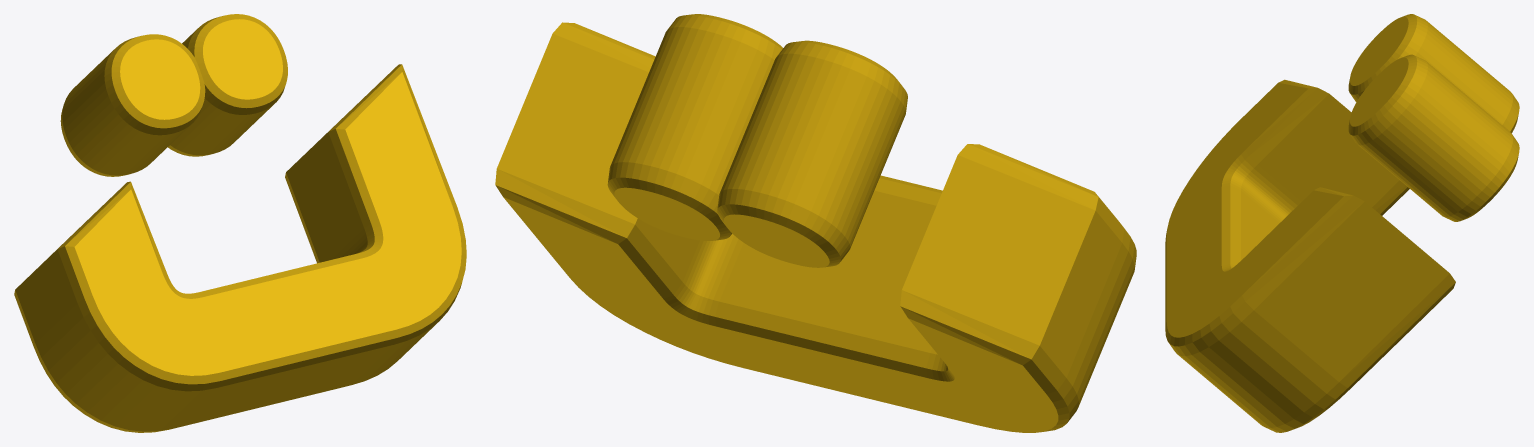
3 views of the same model, side by side, from view 1: azimuth 30°, elevation 25°; view 2: azimuth 150°, elevation 25°; view 3: azimuth 270°, elevation 25° (orthographic). The views are drawn at different scales.
Visible parts, largest first — view 1: letter; view 2: letter; view 3: letter.
Part boxes in pixels (box(x1,y1,x2,y2)): letter: box(14, 14, 466, 432); letter: box(495, 14, 1136, 432); letter: box(1165, 14, 1519, 432).
Bounding box in the file's own units: 1.06 × 0.8794 × 0.8518.
